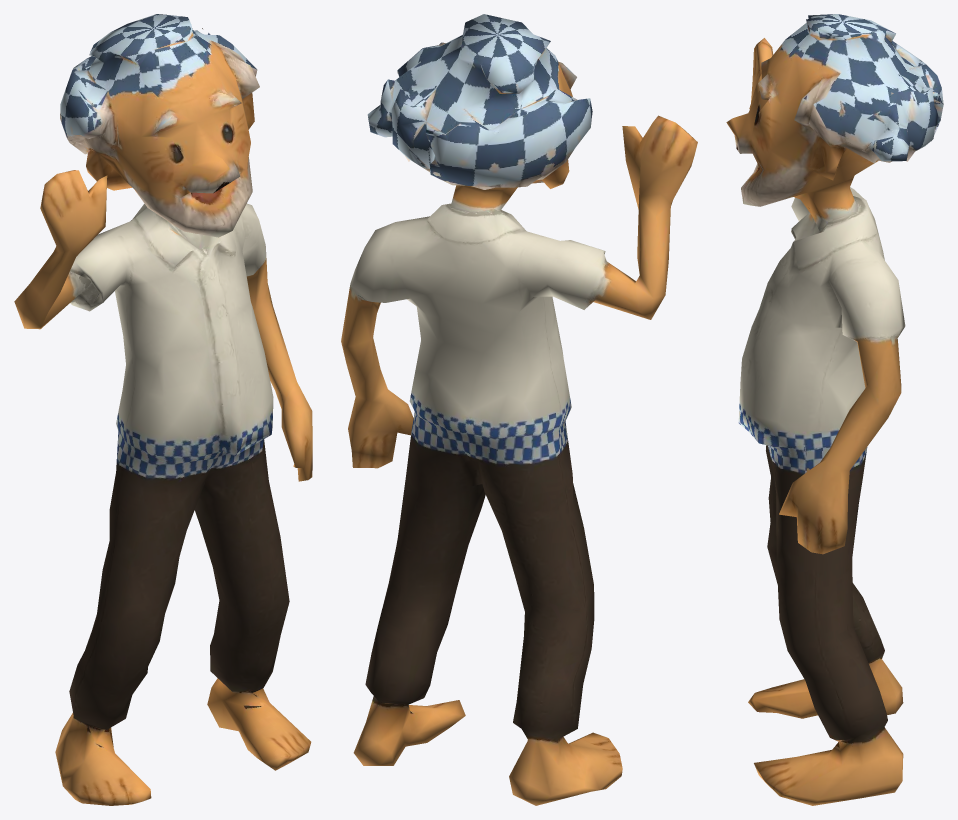
The model's file is toad-pose-villager8-wave.glb.
3 renders of one model, left to right at view 1: azimuth 30°, elevation 25°; view 2: azimuth 150°, elevation 25°; view 3: azimuth 270°, elevation 25°, orthographic. The views are drawn at different scales.
Visible parts, largest first — view 1: villager8-all_Wave; view 2: villager8-all_Wave; view 3: villager8-all_Wave.
Boxes of the visible parts, x1,y1,x2,y2 form: villager8-all_Wave: (14, 14, 312, 805); villager8-all_Wave: (341, 14, 697, 805); villager8-all_Wave: (726, 14, 943, 805).
Size of the model in its own units: 0.4118 by 0.9603 by 0.2593.
1 material, 1 textured.
